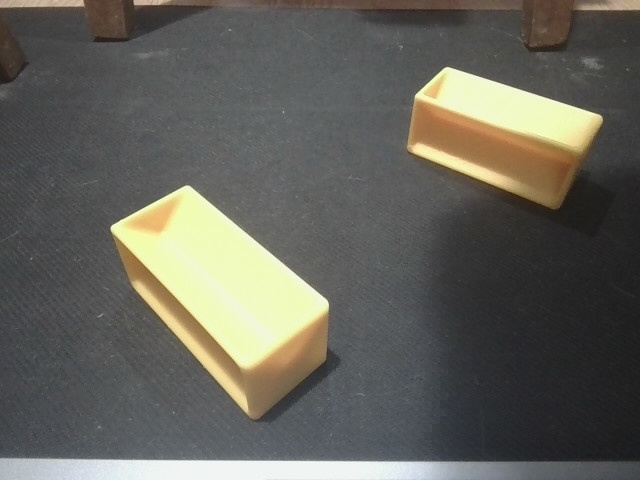YellowSample: (107, 182, 330, 424), (402, 64, 606, 214)
